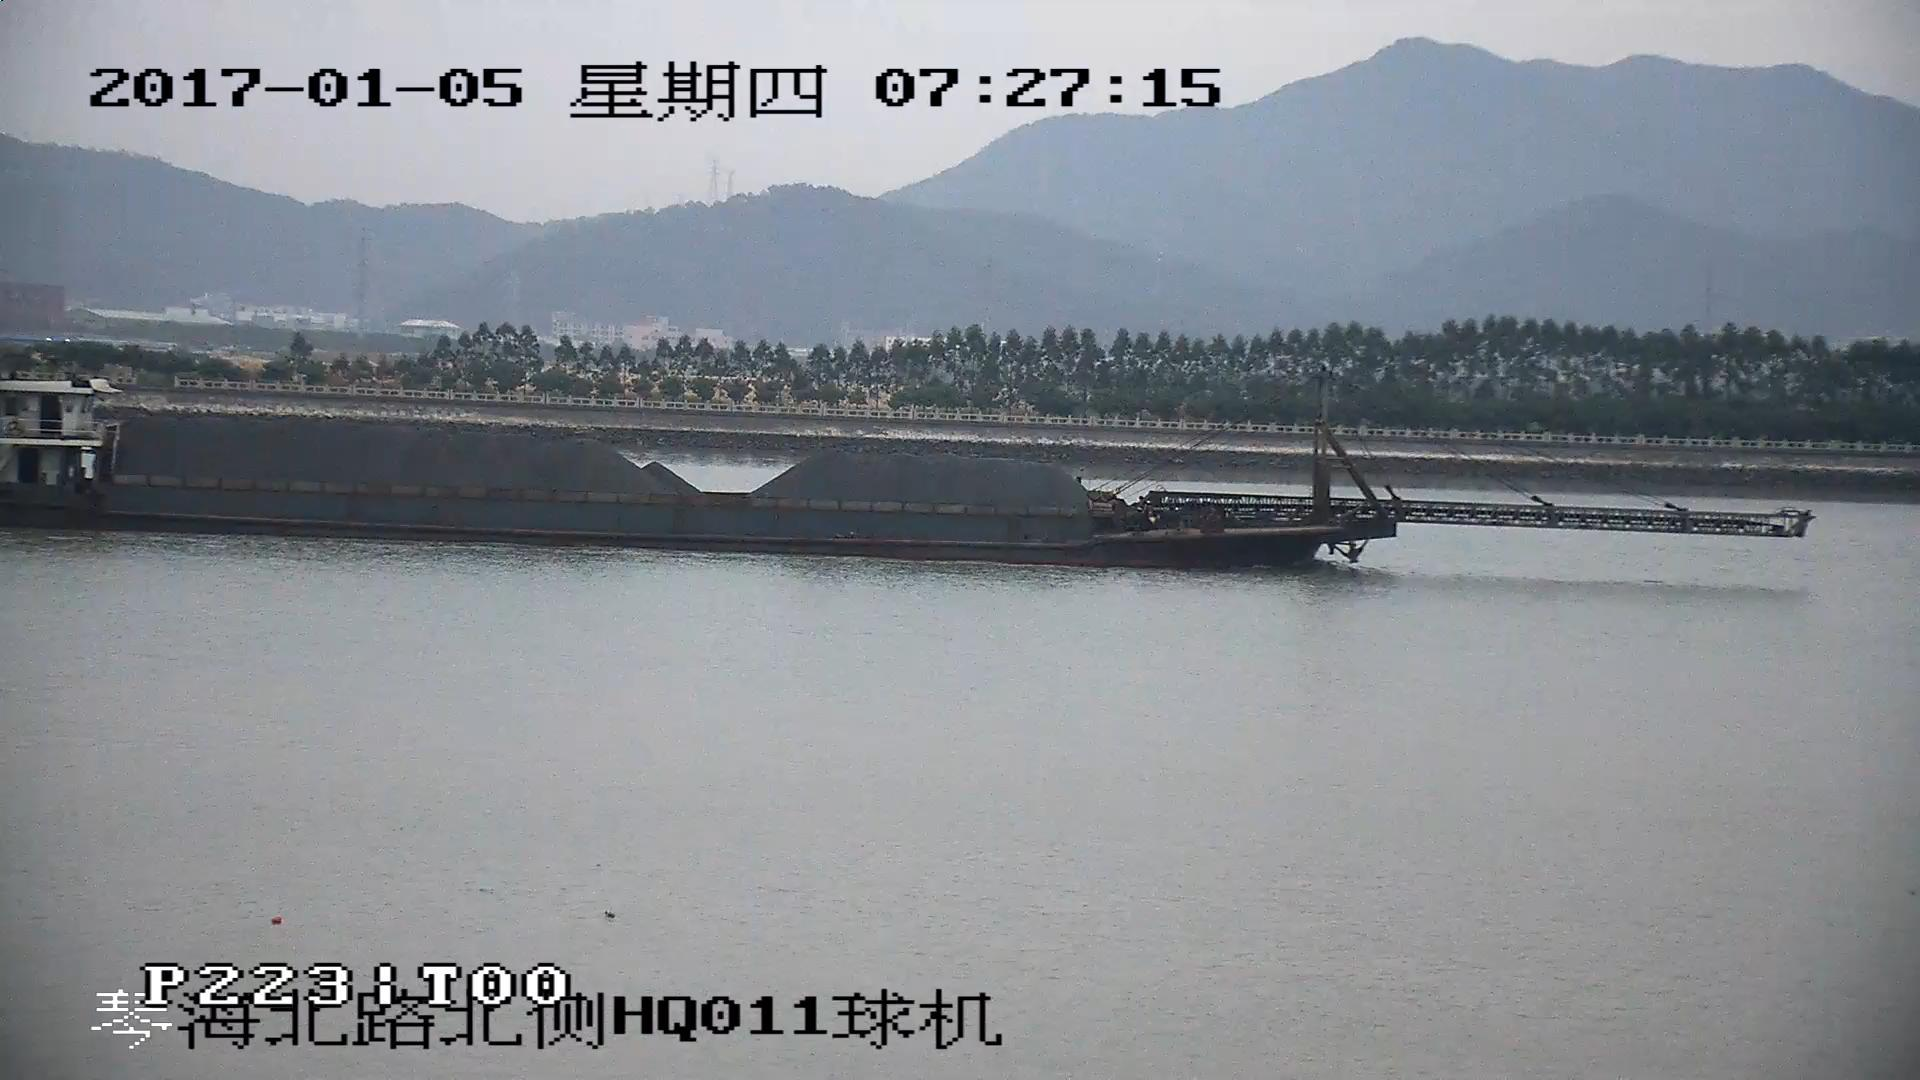Ship: (3, 382, 1807, 568)
